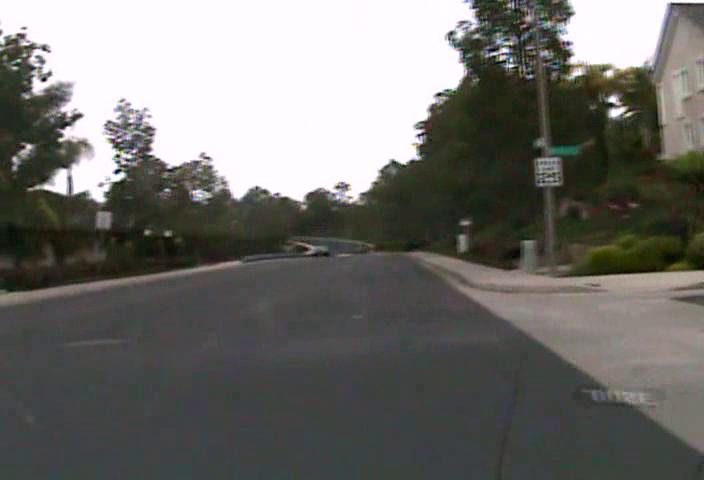speedLimit25: (534, 155, 563, 187)
